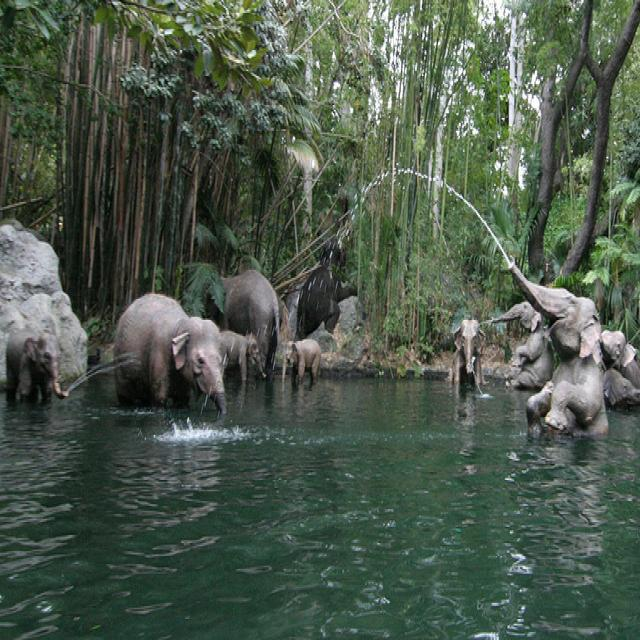Elephant: (113, 291, 227, 420), (219, 268, 280, 377), (5, 327, 68, 404), (218, 328, 266, 383), (450, 317, 485, 388), (281, 338, 321, 388)
